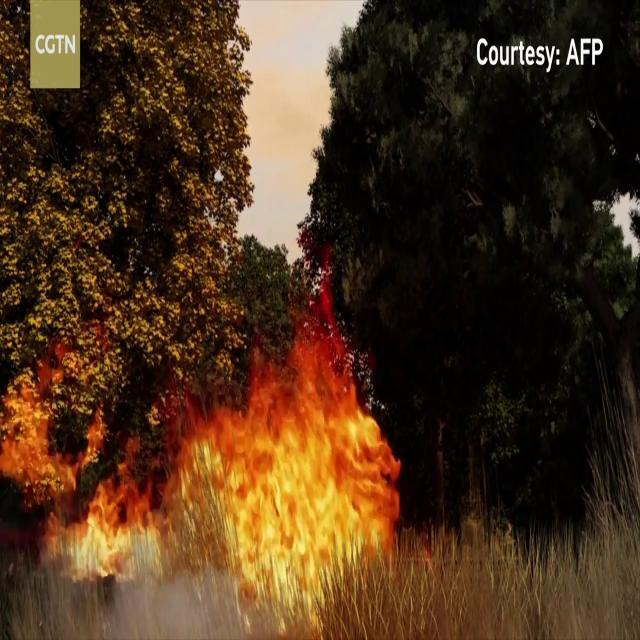Fire: (48, 306, 406, 618)
